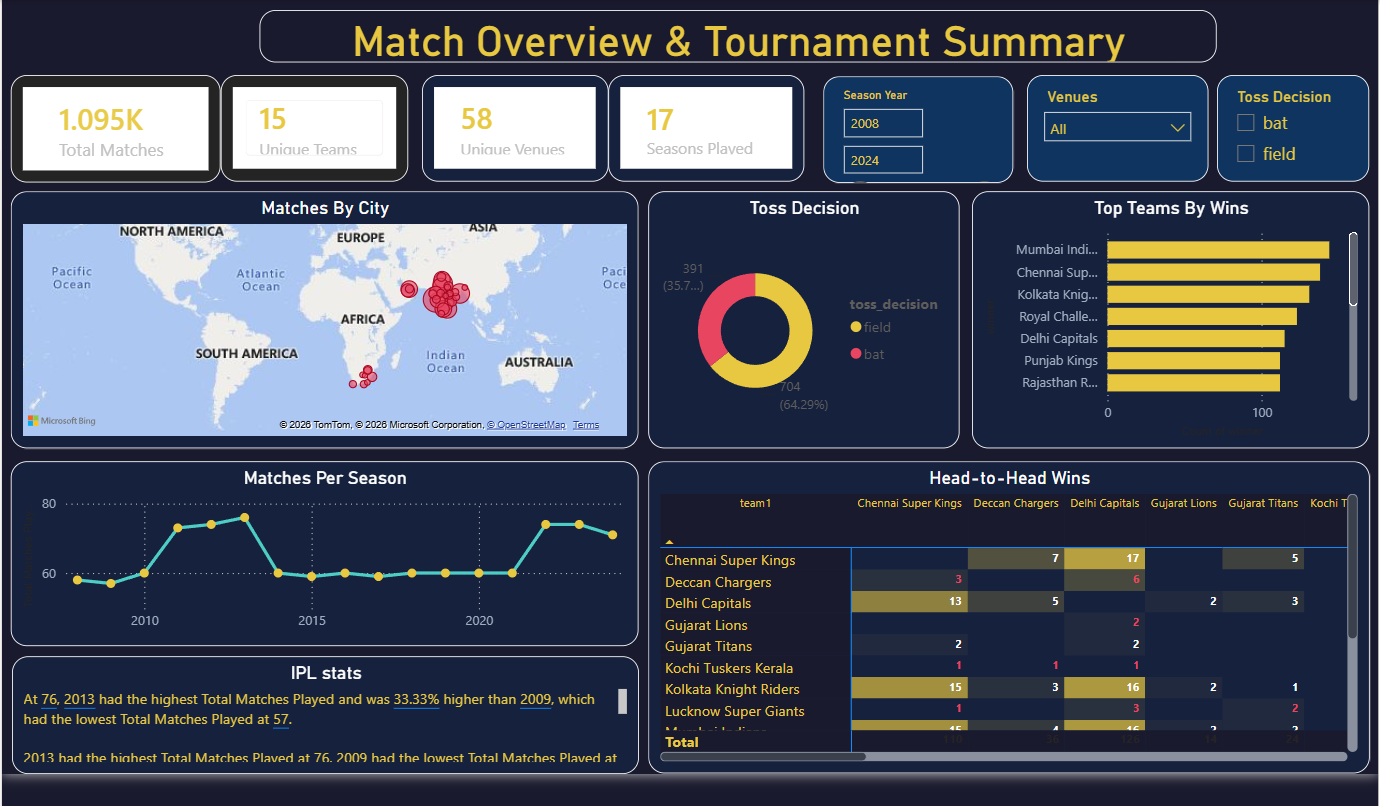

The dashboard page shown, as its layout file describes it:
{"tool":"powerbi","page":{"name":"Page 1","canvas":[1280,720],"ordinal":0},"visuals":[{"type":"cardVisual","fields":{"Data":["Count(Sheet1.id)"]},"box":[8.3,70,195,100],"z":0},{"type":"cardVisual","fields":{"Data":["Count(Sheet1.team1)"]},"box":[203.5,69.8,174.4,98.8],"z":1000},{"type":"cardVisual","fields":{"Data":["Count(Sheet1.venue)"]},"box":[390.7,69.8,173.3,98.8],"z":2000},{"type":"cardVisual","fields":{"Data":["Count(Sheet1.Season_Year)"]},"box":[564,69.8,182.6,98.8],"z":3000},{"type":"map","title":"Matches By City","fields":{"Category":["Sheet1.city"],"Size":["CountNonNull(Sheet1.id)"]},"box":[8.1,177.9,583.7,239.5],"z":4000},{"type":"clusteredBarChart","title":"Top Teams By Wins","fields":{"Category":["Sheet1.winner"],"Y":["CountNonNull(Sheet1.winner)"]},"box":[902.3,177.9,369.8,239.5],"z":5000},{"type":"lineChart","title":"Matches Per Season","fields":{"Category":["Sheet1.Season_Year"],"Y":["CountNonNull(Sheet1.id)"]},"box":[8.1,429.1,583.7,172.1],"z":6000},{"type":"donutChart","title":"Toss Decision","fields":{"Category":["Sheet1.toss_decision"],"Y":["CountNonNull(Sheet1.toss_winner)"]},"box":[601.2,177.9,289.5,239.5],"z":7000},{"type":"pivotTable","title":"Head-to-Head Wins","fields":{"Rows":["Sheet1.team1"],"Columns":["Sheet1.team2"],"Values":["CountNonNull(Sheet1.winner)"]},"box":[601.2,429.1,670.9,290.7],"z":8000},{"type":"textbox","title":"IPL stats","box":[8.9,610.1,583.2,109.5],"z":9000},{"type":"textbox","title":"Match Overview & Tournament Summary","box":[239.5,9.3,890.7,48.8],"z":10000},{"type":"slicer","fields":{"Values":["Sheet1.Season_Year"]},"box":[764,70.9,176.7,98.8],"z":11000},{"type":"slicer","fields":{"Values":["Sheet1.city"]},"box":[953.5,69.8,168.6,98.8],"z":12000},{"type":"slicer","fields":{"Values":["Sheet1.toss_decision"]},"box":[1130.2,69.8,141.9,98.8],"z":13000}]}

Visuals, with their boxes in screenshot pixels (x1, y1, x2, y2):
cardVisual - Count(Sheet1.id): 5/74/213/181
cardVisual - Count(Sheet1.team1): 213/74/398/179
cardVisual - Count(Sheet1.venue): 412/74/596/179
cardVisual - Count(Sheet1.Season_Year): 596/74/790/179
"Matches By City" map: 5/189/626/444
"Top Teams By Wins" clusteredBarChart: 956/189/1349/444
"Matches Per Season" lineChart: 5/456/626/639
"Toss Decision" donutChart: 636/189/943/444
"Head-to-Head Wins" pivotTable: 636/456/1349/765
"IPL stats" textbox: 6/649/626/765
"Match Overview & Tournament Summary" textbox: 251/10/1198/62
slicer - Sheet1.Season_Year: 809/75/997/180
slicer - Sheet1.city: 1010/74/1189/179
slicer - Sheet1.toss_decision: 1198/74/1349/179
